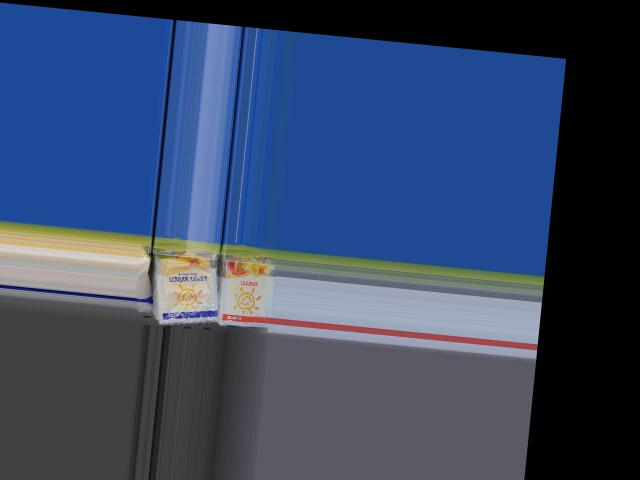cheese: (216, 243, 279, 334)
